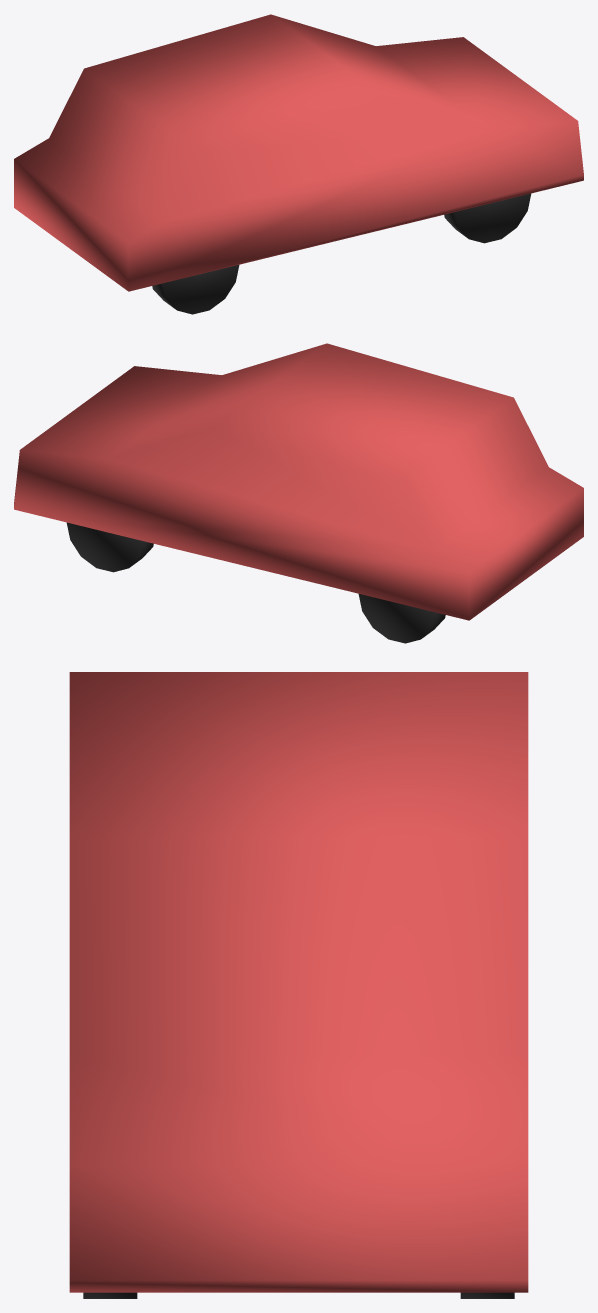
The model's file is car_a.glb.
3 renders of one model, top to bottom at view 1: azimuth 30°, elevation 25°; view 2: azimuth 150°, elevation 25°; view 3: azimuth 270°, elevation 25°, orthographic. The views are drawn at different scales.
Parts seen in each view (by area): view 1: car_a; view 2: car_a; view 3: car_a.
Part boxes in pixels (x1,y1,x2,y2): car_a: (14,14,583,314); car_a: (14,343,583,643); car_a: (69,672,528,1298).
Size of the model in its own units: 3.9 by 1.41 by 1.7.
